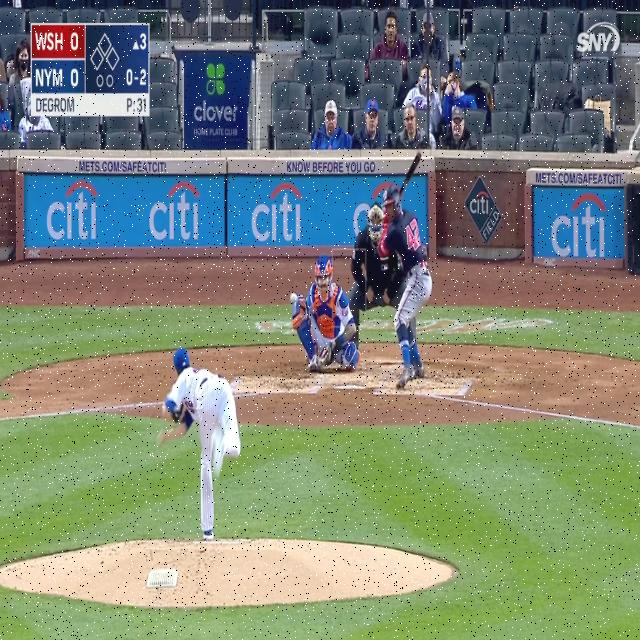baseball: (290, 292, 297, 303)
